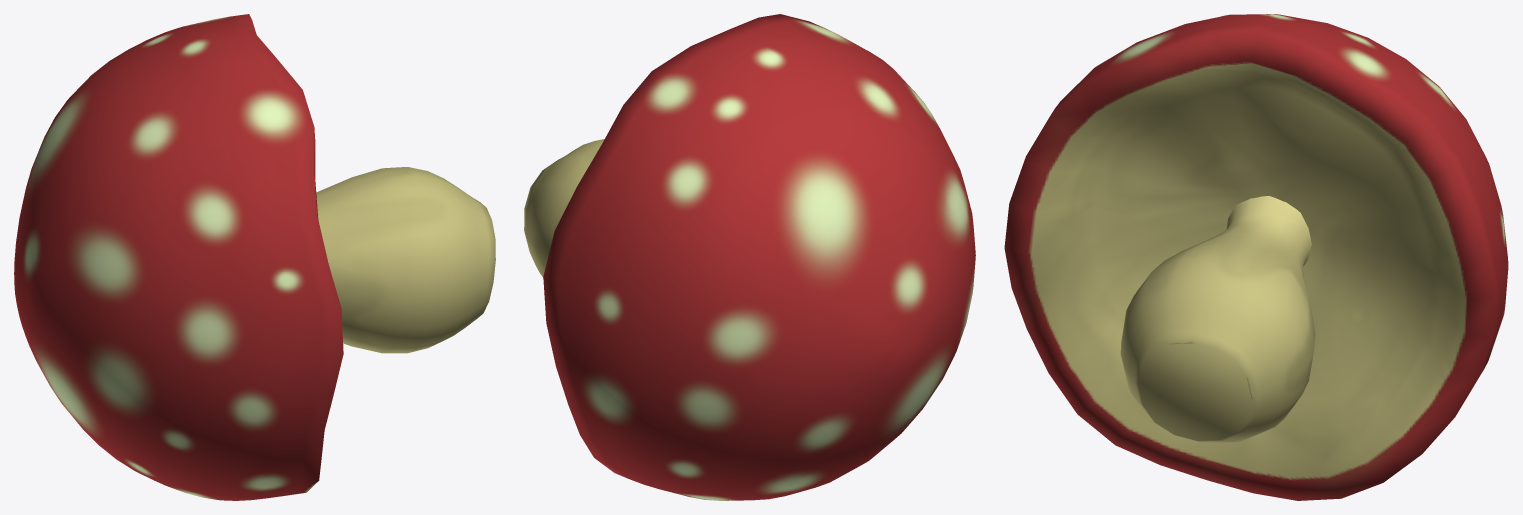
The model's file is Venenoso.fbx.
3 renders of one model, left to right at view 1: azimuth 30°, elevation 25°; view 2: azimuth 150°, elevation 25°; view 3: azimuth 270°, elevation 25°, orthographic. The views are drawn at different scales.
Visible parts, largest first — view 1: CogumeloVenenoso; view 2: CogumeloVenenoso; view 3: CogumeloVenenoso.
Boxes of the visible parts, box(x1,y1,x2,y2) form: CogumeloVenenoso: box(14, 14, 495, 500); CogumeloVenenoso: box(524, 14, 975, 500); CogumeloVenenoso: box(1004, 14, 1508, 500).
Size of the model in its own units: 216 by 217 by 217.
